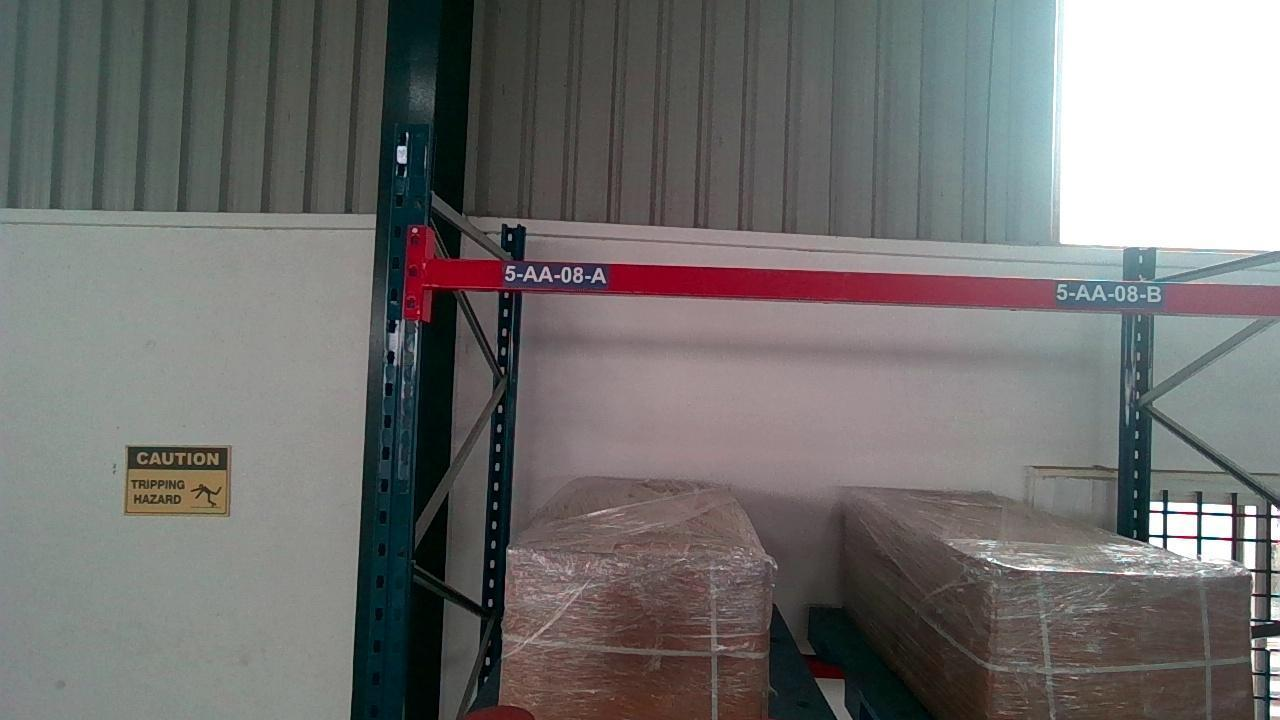h_rack: (426, 261, 1279, 311)
